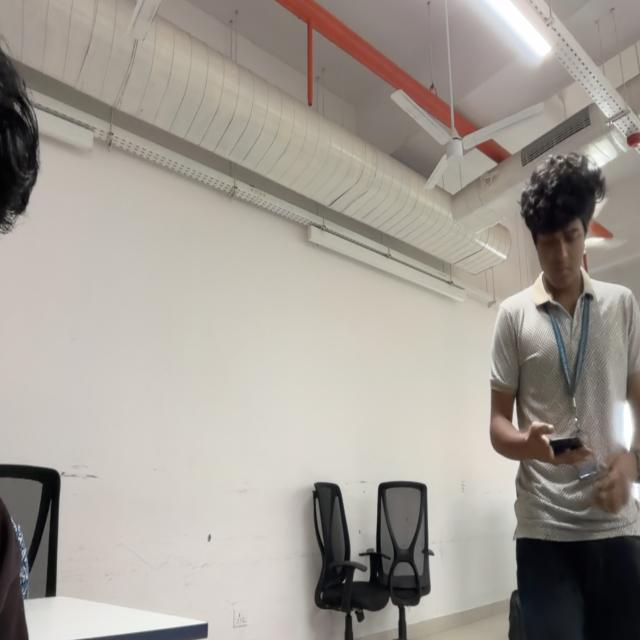kshitij: (520, 153, 603, 292)
